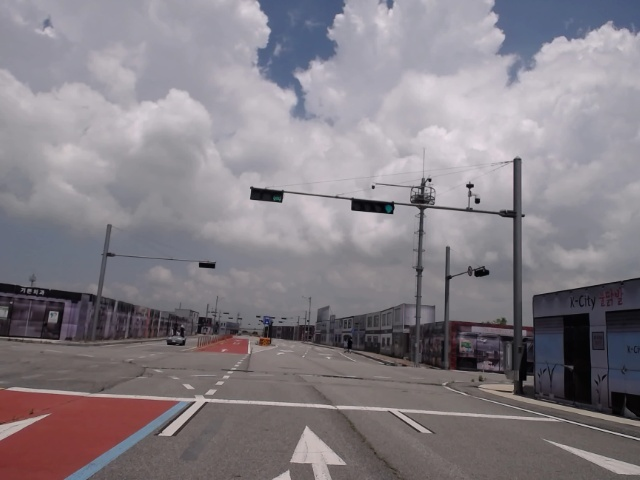straight_green_4: (351, 200, 396, 214)
